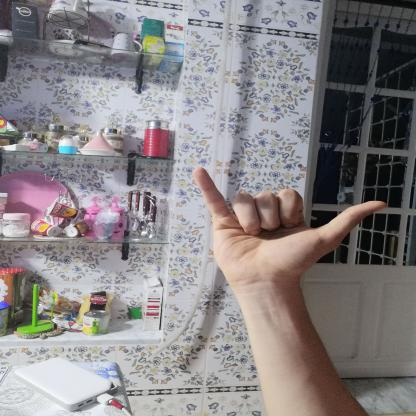YA: (183, 159, 398, 295)
